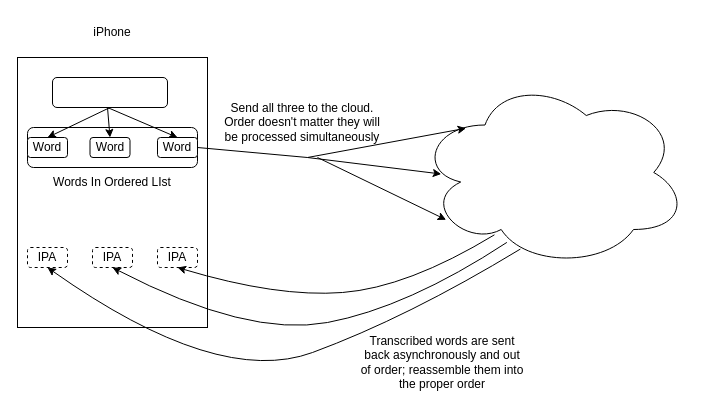
Some shapes in this 705 by 408 pixel diagram are drawn without their labels. Here are the shapes that lost their labels. From the top down, the centre of each, then its label:
At [110,92]: "Recording".
At [552,172]: "Cloud".
